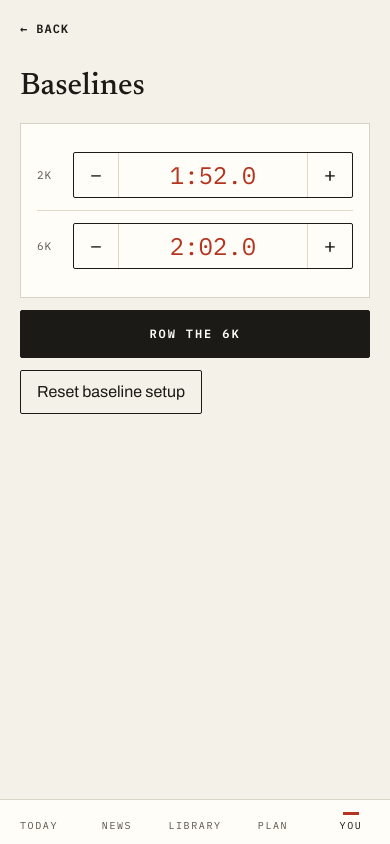
history-aware BACK: the baselines re-test shortcut -> detail round trip › returns to the baselines screen after BACK from the designated test's detail
The image size is (390, 844).
What coordinates should you click on to do the following:
click the link "ROW THE 6K"
I would click on:
 (195, 334)
Its box is [20,310,370,358].
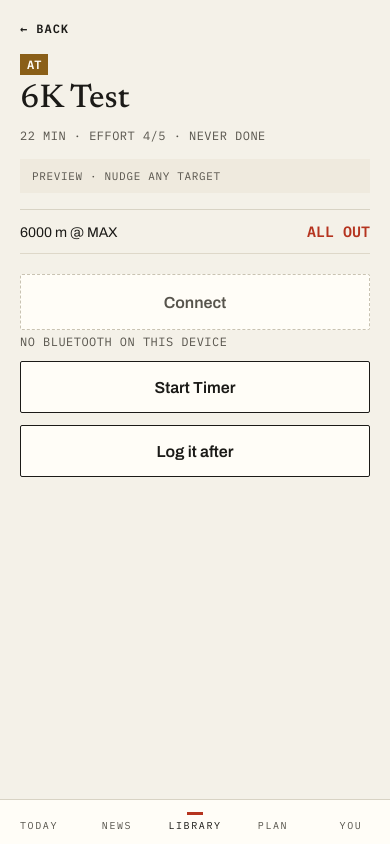
Check: the heading "6K Test" is shown, box [20,83,130,116]
What coordinates should you click on to do the following:
click the link "← BACK"
I would click on:
 (44, 28)
Its box is [20,20,69,36].
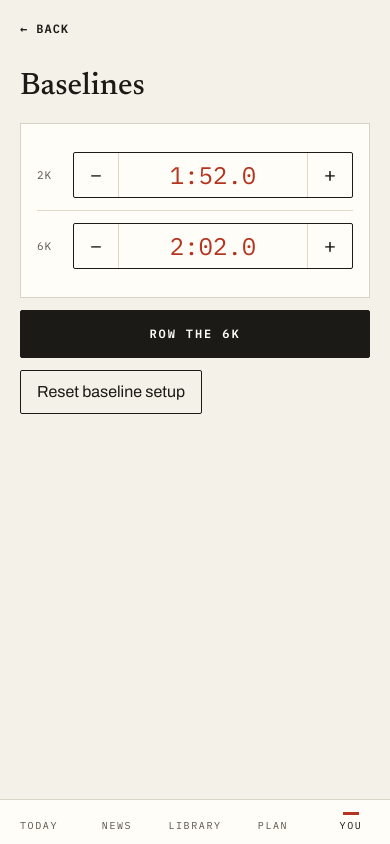
Check: the heading "Baselines" is shown, box [20,71,145,102]
